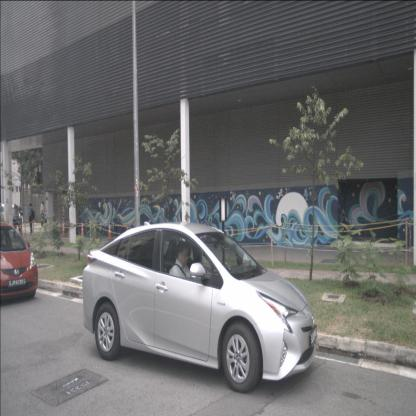cone: (107, 224, 112, 240), (61, 224, 65, 237), (81, 225, 84, 237)
